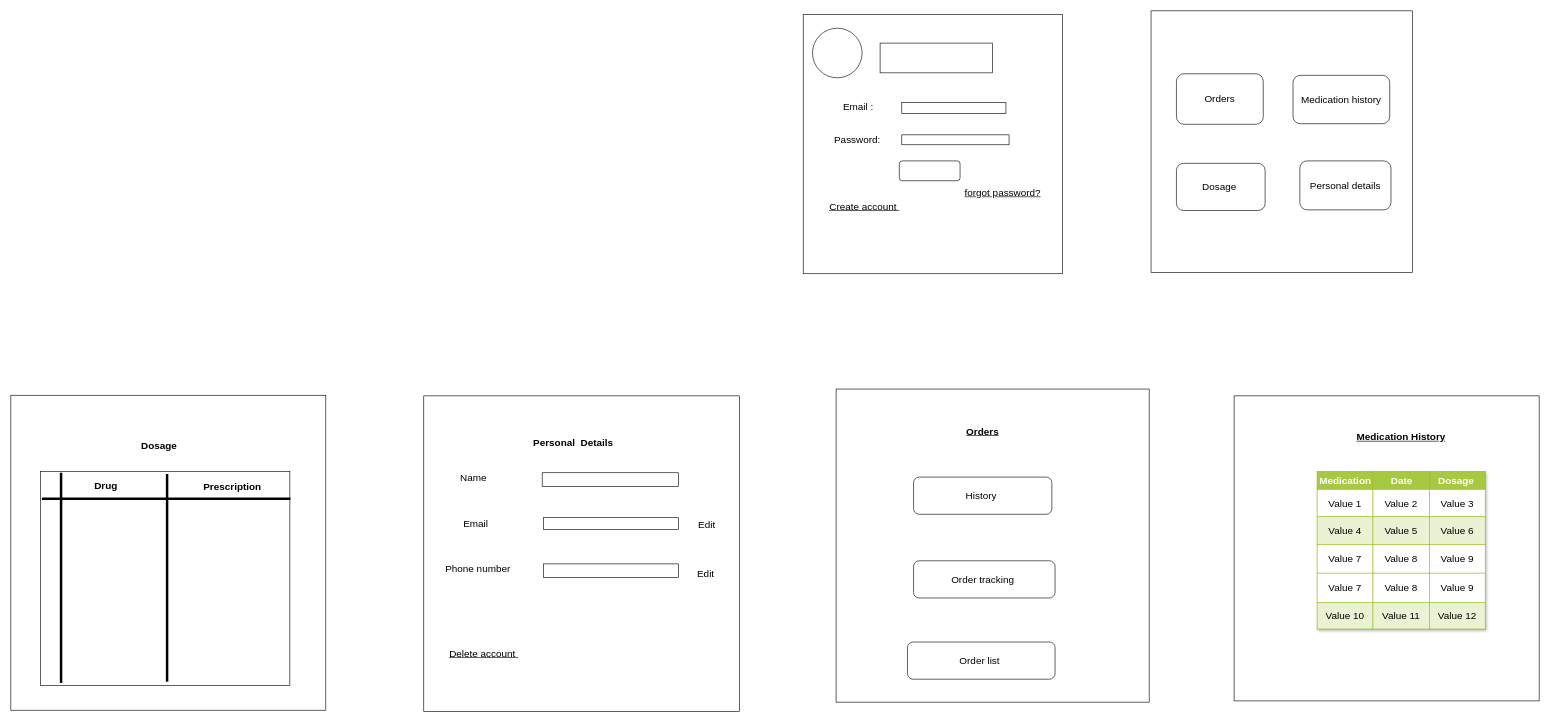
Image size: 1550x722. Some labels were removed from this diagram. The shapes that lost their labels are listed below. From the top down, each one's centre as x and y in pixels, then its label:
point (837, 53): Logo
point (935, 57): Company Name
point (929, 170): LOGIN
